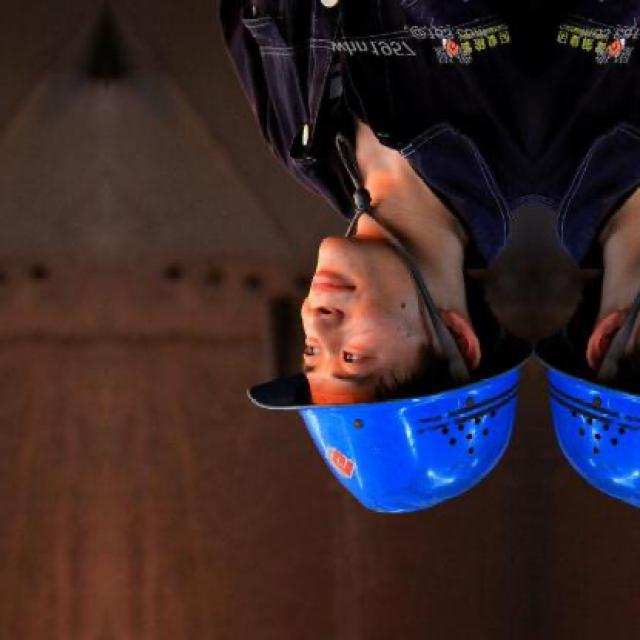con casco: (234, 260, 512, 534)
